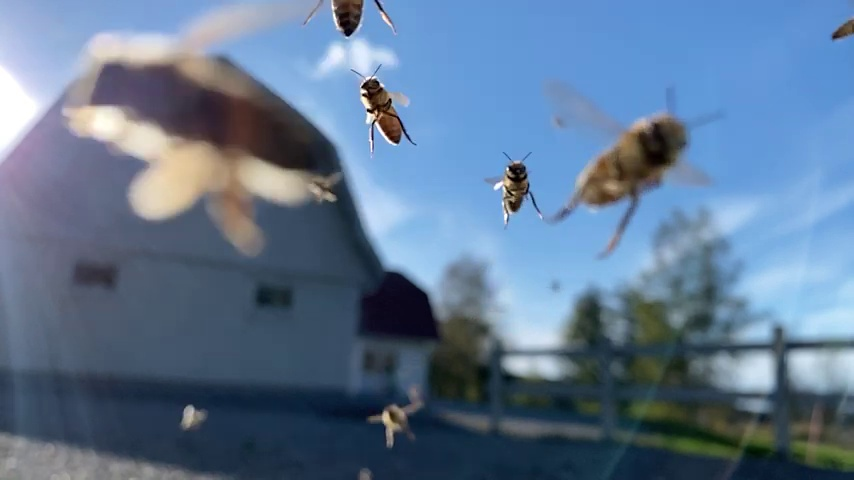insect: (62, 28, 347, 239), (545, 77, 712, 257), (347, 63, 427, 153), (482, 148, 548, 227), (297, 0, 408, 39), (367, 394, 418, 449)
